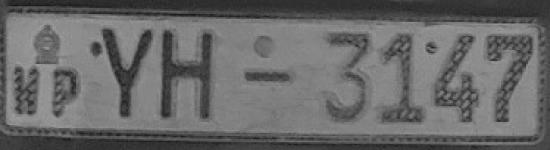-: (240, 63, 295, 93)
1: (374, 29, 430, 129)
3: (322, 23, 376, 127)
4: (426, 27, 482, 130)
7: (482, 30, 536, 128)
H: (158, 25, 218, 128)
P: (48, 66, 84, 121)
W: (11, 64, 43, 116)
Y: (97, 24, 157, 125)
